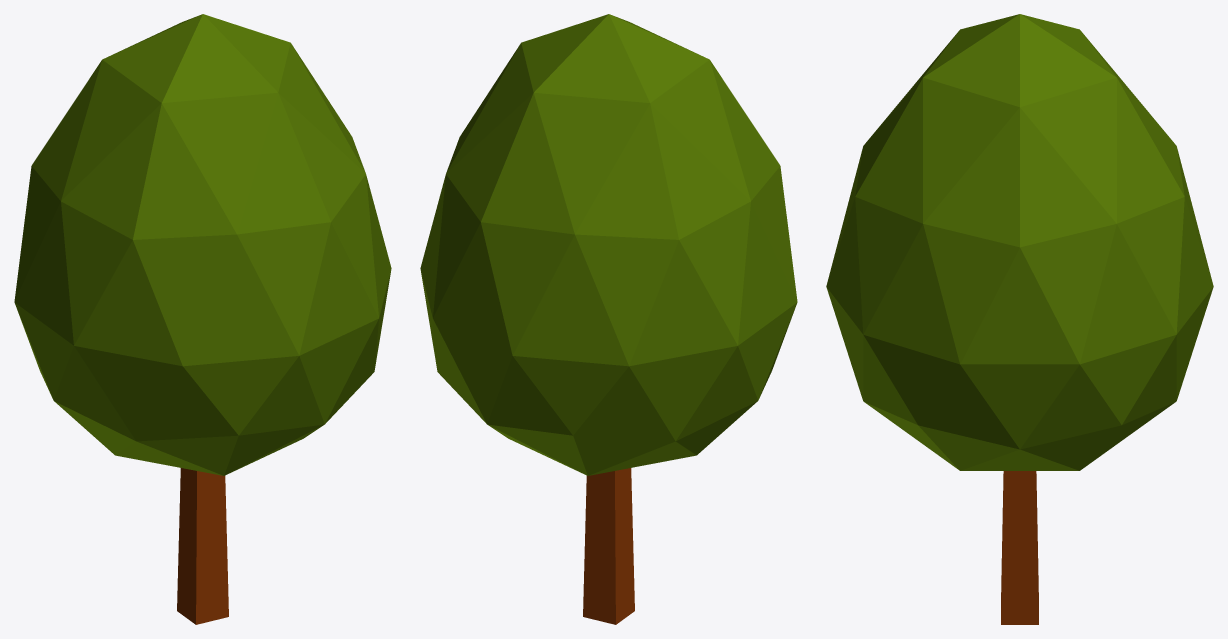
The model's file is Tree.fbx.
3 renders of one model, left to right at view 1: azimuth 30°, elevation 25°; view 2: azimuth 150°, elevation 25°; view 3: azimuth 270°, elevation 25°, orthographic.
Visible parts, largest first — view 1: Cube; view 2: Cube; view 3: Cube.
Boxes of the visible parts, x1,y1,x2,y2 form: Cube: (14,14,391,624); Cube: (420,14,797,624); Cube: (826,14,1213,624).
Size of the model in its own units: 384 by 693 by 403.
